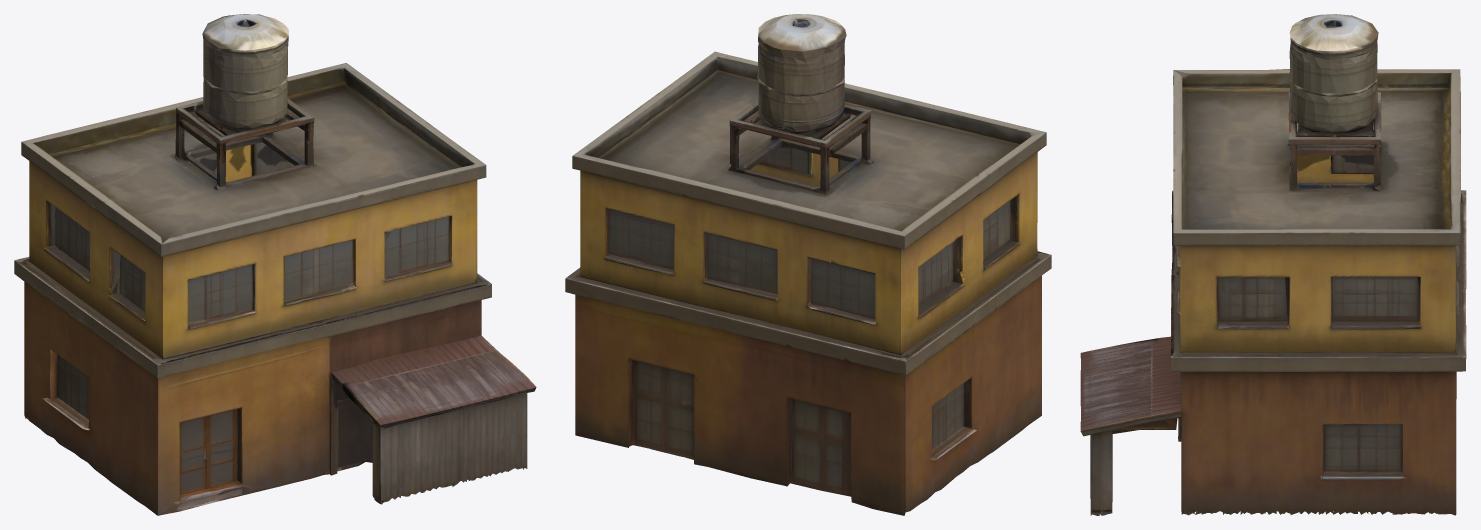
File: indian_house_with_tank.obj
The picture shows the model from 3 angles, left to right: view 1: azimuth 30°, elevation 25°; view 2: azimuth 150°, elevation 25°; view 3: azimuth 270°, elevation 25°; orthographic projection. The views are drawn at different scales.
Parts seen in each view (by area): view 1: obj1; view 2: obj1; view 3: obj1.
Part boxes in pixels (x1,y1,x2,y2): obj1: (14, 14, 536, 515); obj1: (565, 14, 1051, 515); obj1: (1080, 14, 1466, 515).
Size of the model in its own units: 1.76 by 2.01 by 1.71.
1 material, 1 textured.
